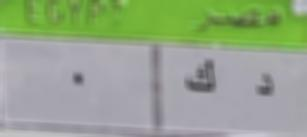0: (61, 60, 93, 96)
daal: (243, 68, 277, 105)
kaaf: (182, 56, 222, 99)
